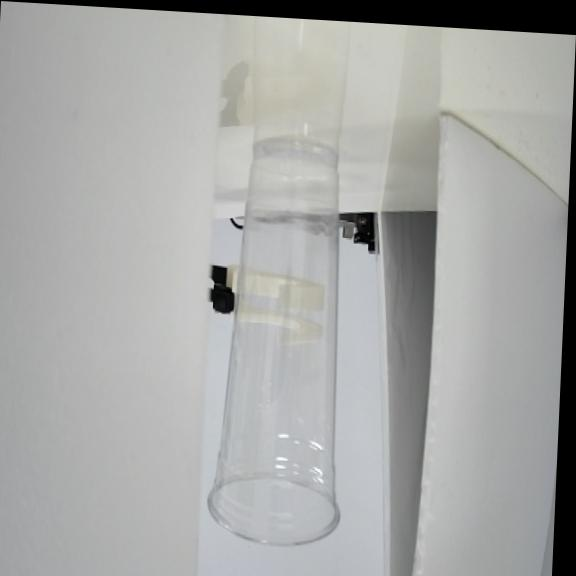Plastik: (208, 139, 338, 544)
